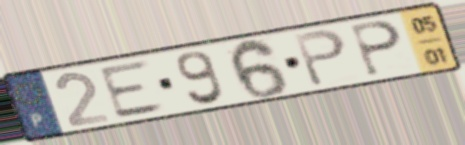2: (52, 70, 115, 129)
6: (226, 36, 292, 101)
9: (175, 49, 226, 107)
E: (96, 57, 170, 122)
P: (290, 26, 349, 90), (347, 18, 405, 79)
